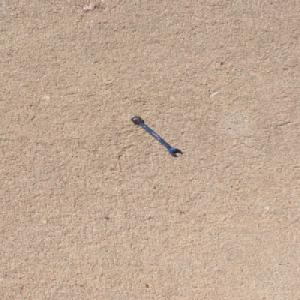Wrench: (129, 115, 182, 155)
